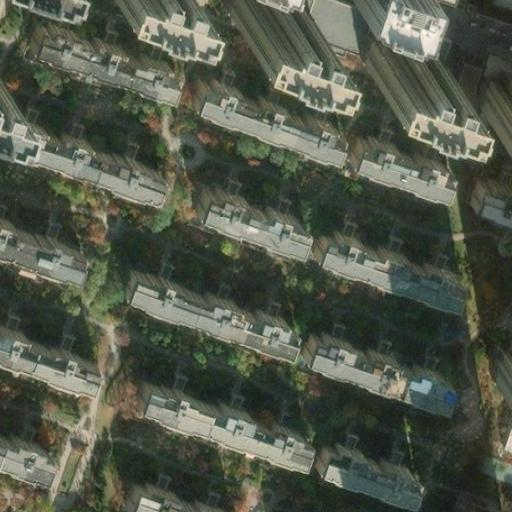building: (112, 260, 287, 348), (128, 373, 304, 460), (11, 117, 170, 206), (289, 322, 449, 406), (6, 15, 168, 94), (183, 70, 334, 147), (305, 223, 455, 300), (187, 181, 301, 245), (334, 125, 440, 187), (307, 436, 409, 494), (355, 44, 444, 97), (116, 474, 227, 512), (218, 0, 307, 41), (446, 47, 512, 97), (459, 176, 512, 214), (471, 68, 512, 110), (479, 333, 512, 372), (419, 500, 464, 512)
